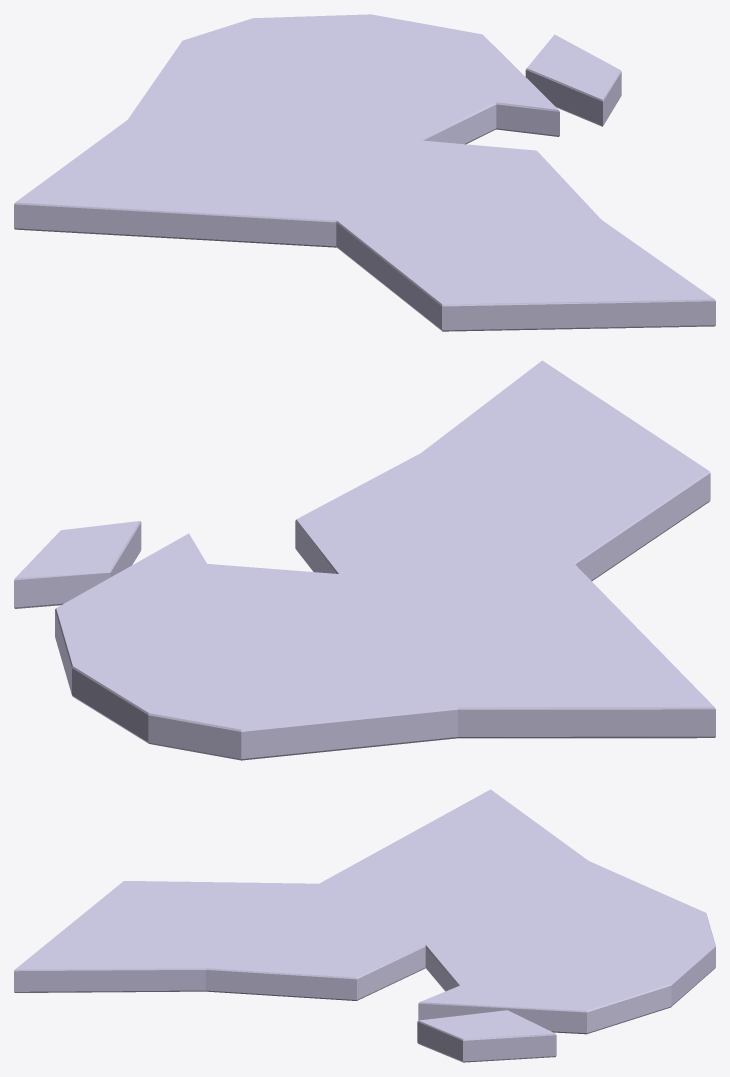
The model's file is KWT.glb.
The picture shows the model from 3 angles, top to bottom: view 1: azimuth 30°, elevation 25°; view 2: azimuth 150°, elevation 25°; view 3: azimuth 270°, elevation 25°; orthographic projection. The views are drawn at different scales.
Size of the model in its own units: 1.55 by 0.068 by 1.84.
